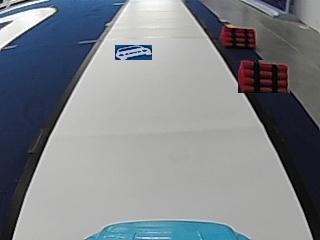bomb: (218, 25, 256, 47)
